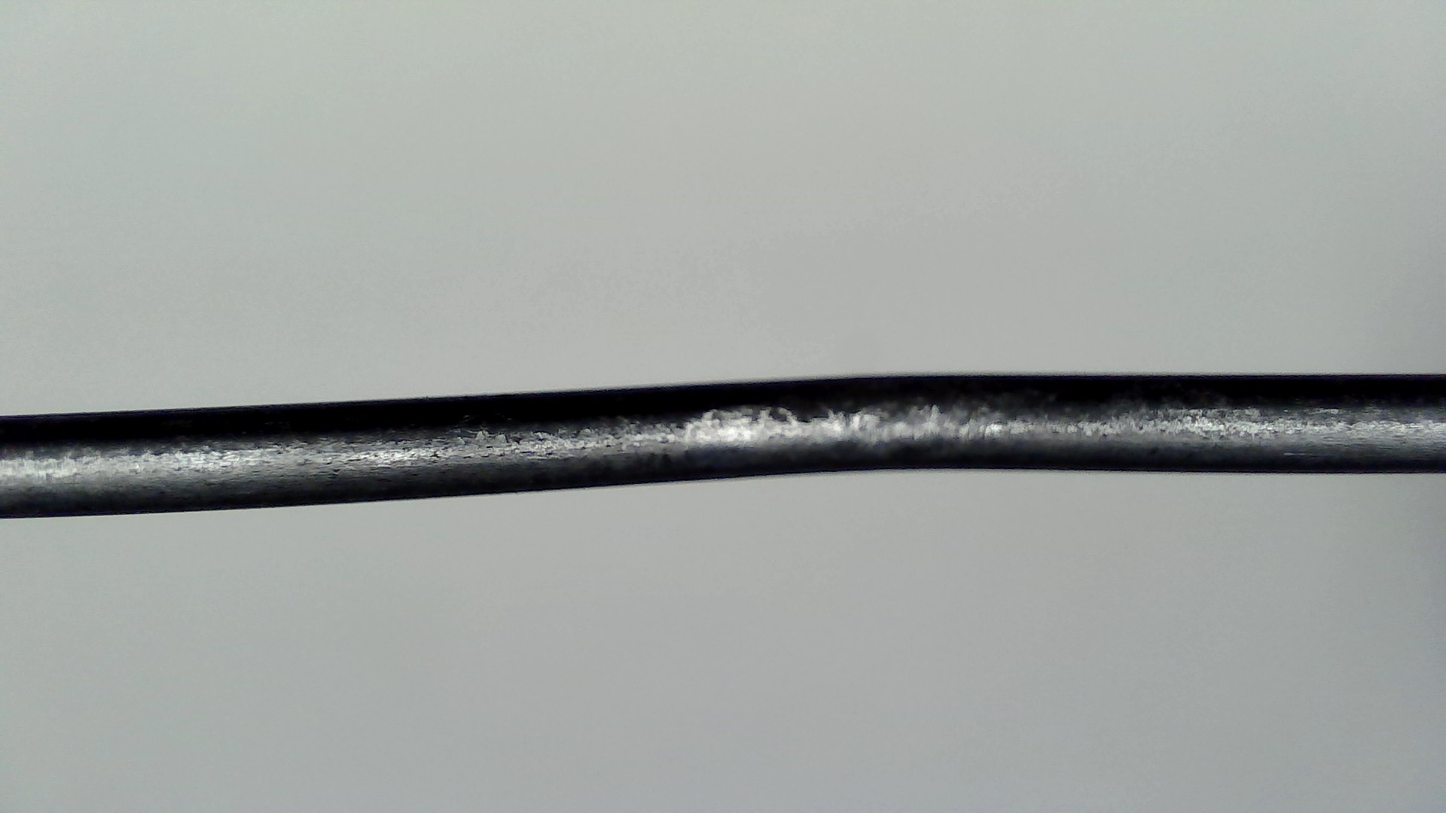defect: (682, 395, 1014, 447)
